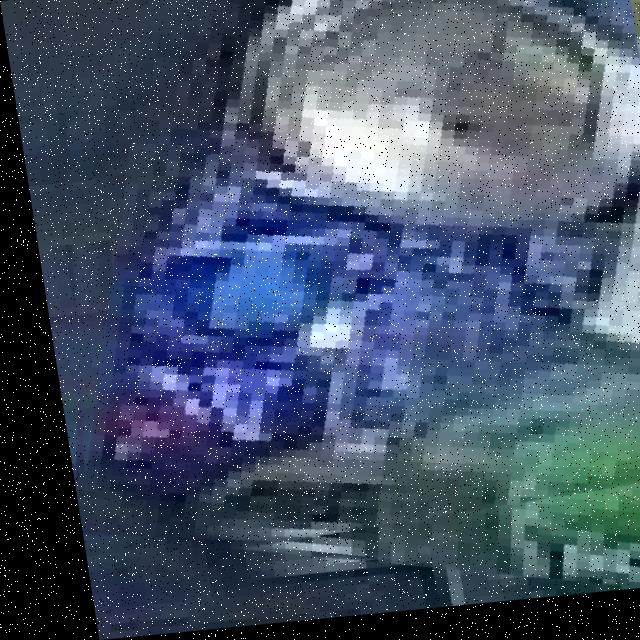can: (66, 0, 640, 539)
